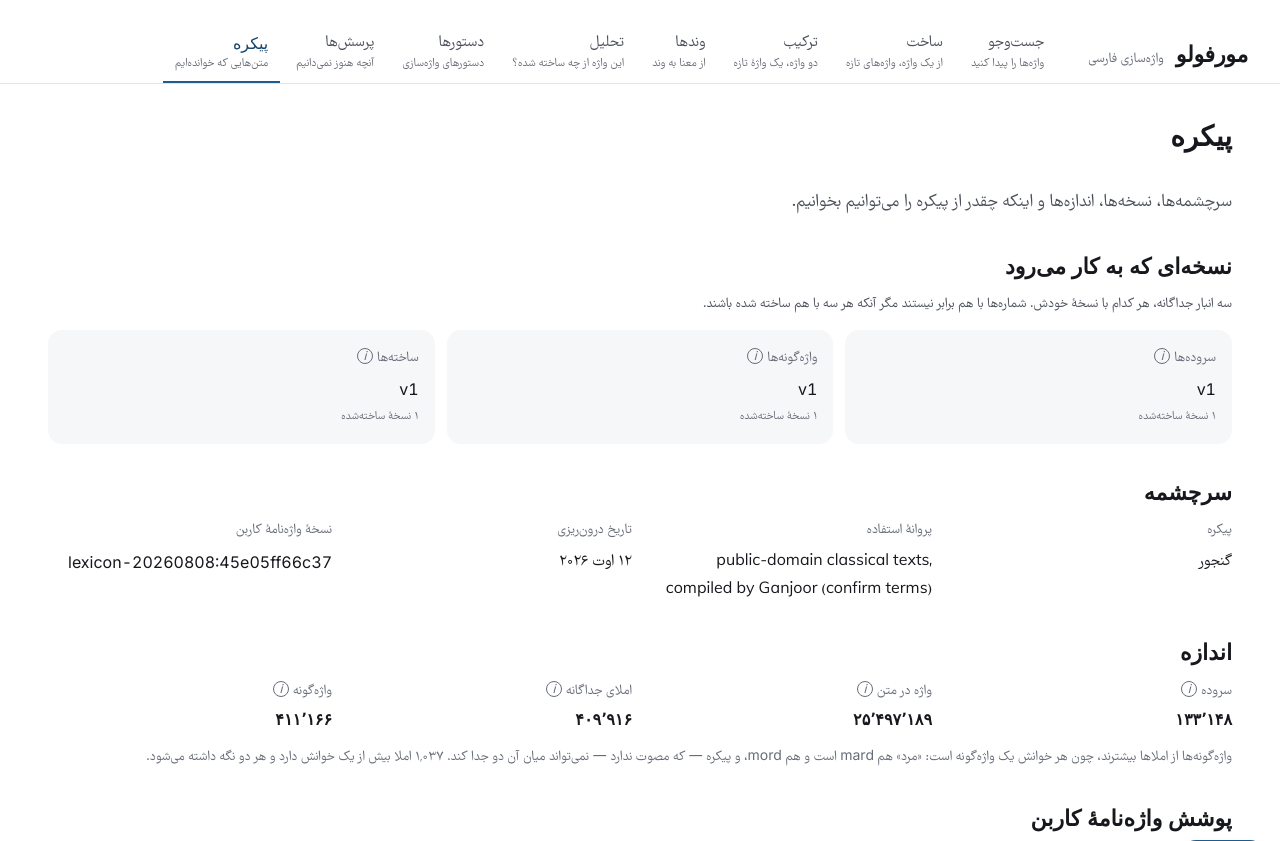
Test case: the words the screen uses for itself › explains a store in plain words when the mark is opened
Click the button named "ساخته‌ها چیست؟".
click(365, 356)  # box [357,348,373,364]
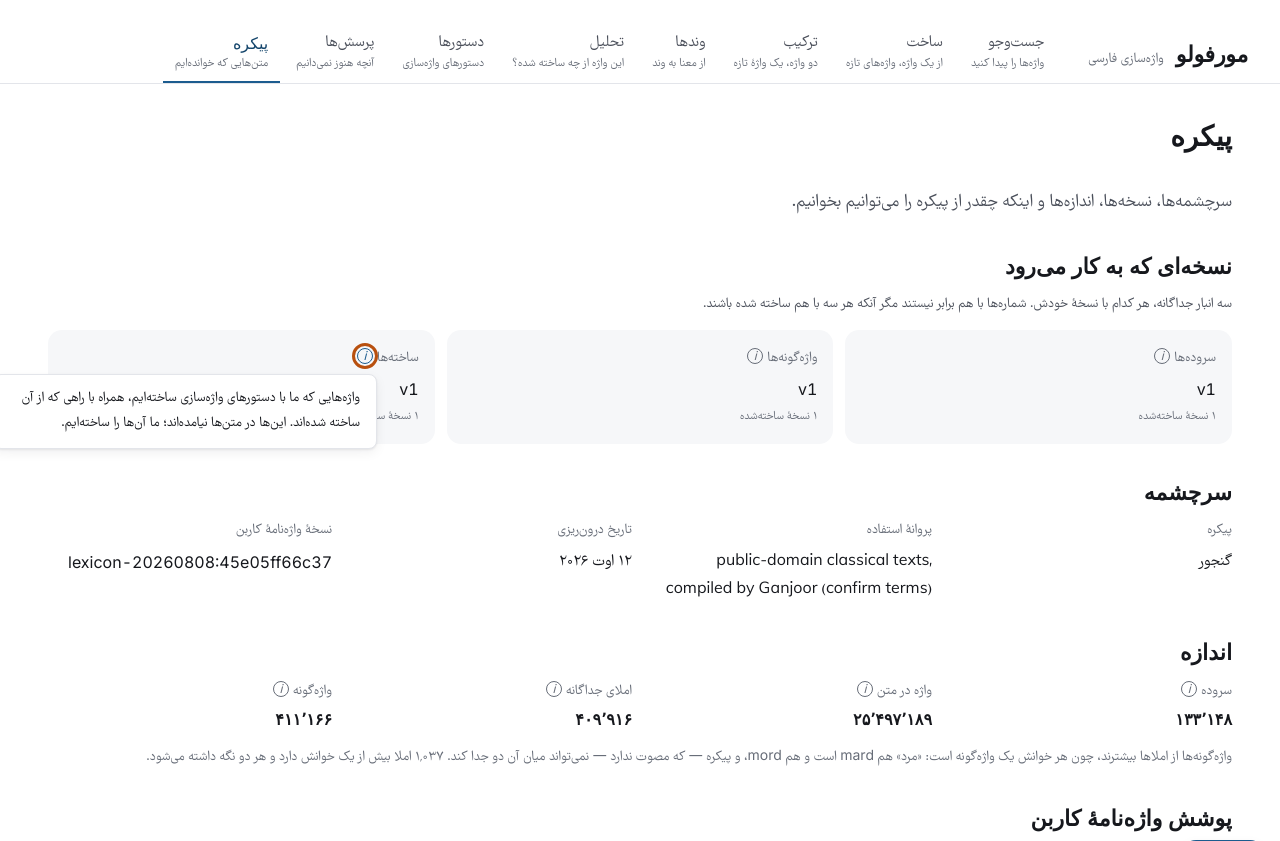
Expected: the tooltip shows "ما با دستورهای واژه‌سازی ساخته‌ایم", [22,389,360,433]
